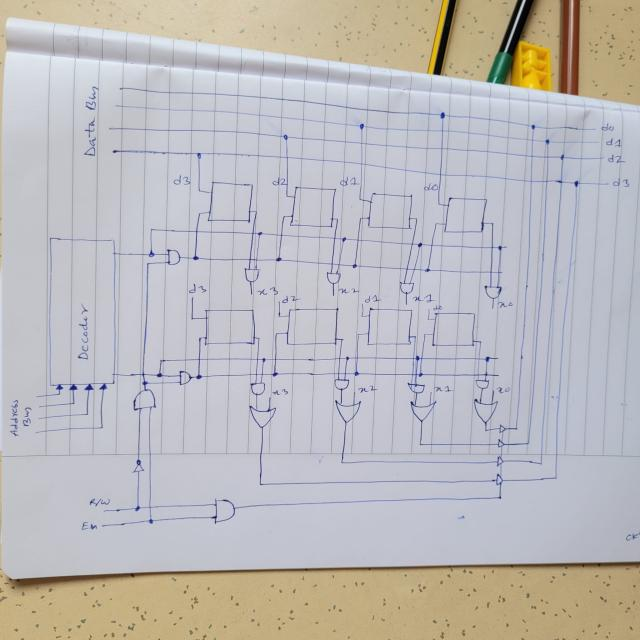crossover: (556, 179, 564, 184), (545, 154, 551, 160), (544, 178, 550, 184), (528, 178, 534, 184), (196, 356, 202, 362), (359, 140, 364, 146), (529, 153, 534, 159), (359, 161, 364, 166), (439, 146, 444, 151), (440, 128, 445, 133), (438, 172, 443, 177), (194, 229, 199, 234), (279, 233, 284, 238), (284, 155, 290, 159), (530, 137, 534, 143), (272, 357, 278, 361), (343, 372, 348, 376), (336, 371, 341, 375), (260, 372, 265, 376), (355, 356, 360, 360), (484, 372, 488, 377), (477, 356, 481, 361), (333, 236, 337, 241), (356, 237, 360, 242), (489, 269, 493, 274), (490, 245, 494, 250), (256, 357, 260, 361), (254, 372, 258, 376), (476, 372, 480, 376), (251, 232, 255, 236), (410, 242, 414, 246), (430, 243, 434, 247), (248, 257, 252, 261), (255, 258, 259, 262), (337, 357, 342, 360), (411, 372, 413, 377), (415, 372, 417, 377), (420, 357, 423, 360), (412, 357, 414, 360)
junction: (280, 132, 290, 142), (194, 150, 204, 159), (357, 121, 366, 131), (146, 516, 155, 525), (133, 504, 142, 512), (558, 152, 566, 161), (483, 354, 492, 362), (256, 479, 264, 488), (439, 110, 446, 120), (192, 254, 200, 262), (147, 250, 155, 258), (271, 370, 279, 378), (524, 439, 532, 447), (275, 255, 282, 263), (195, 372, 202, 380), (351, 262, 358, 270), (352, 370, 360, 377), (340, 235, 347, 243), (156, 371, 163, 378), (158, 357, 165, 364), (195, 187, 202, 194), (544, 138, 551, 145), (573, 179, 579, 187), (140, 380, 148, 386), (496, 494, 503, 500), (196, 210, 202, 217), (418, 440, 423, 448), (424, 266, 430, 272), (148, 226, 154, 232), (196, 336, 202, 342), (140, 371, 146, 377), (417, 242, 423, 248), (276, 312, 282, 318), (530, 124, 536, 130), (189, 316, 195, 321), (257, 231, 263, 236), (261, 357, 266, 363), (497, 245, 502, 251), (538, 461, 543, 466), (418, 372, 423, 377), (284, 193, 289, 198), (415, 355, 419, 361), (339, 460, 344, 464), (359, 314, 364, 318), (274, 331, 278, 336), (144, 261, 149, 265), (426, 317, 430, 321), (490, 222, 494, 226), (358, 197, 362, 201), (514, 426, 518, 430), (554, 476, 558, 480), (345, 356, 349, 360), (340, 338, 344, 342), (257, 336, 261, 340), (434, 222, 438, 226), (414, 217, 418, 221), (359, 216, 363, 220), (335, 217, 339, 221), (57, 392, 61, 396), (86, 412, 90, 416), (100, 425, 104, 429), (478, 341, 482, 344), (356, 333, 360, 336), (413, 335, 417, 338), (437, 202, 440, 206), (72, 401, 76, 404), (423, 333, 426, 336)
terminal: (110, 147, 118, 155), (117, 85, 123, 92), (36, 403, 42, 410), (488, 304, 494, 310), (248, 290, 254, 296), (100, 522, 106, 528), (503, 243, 508, 250), (107, 126, 112, 132), (34, 394, 40, 399), (34, 429, 40, 434), (359, 302, 366, 306), (113, 103, 118, 108), (600, 155, 605, 160), (404, 300, 409, 305), (276, 299, 281, 304), (101, 508, 106, 513), (595, 140, 601, 144), (498, 271, 504, 275), (36, 414, 40, 420), (496, 372, 500, 377), (331, 292, 336, 296), (189, 296, 194, 300), (267, 394, 272, 398), (352, 390, 356, 395), (491, 389, 496, 393), (606, 182, 610, 186), (593, 127, 597, 131), (282, 214, 286, 218), (495, 356, 498, 361), (253, 210, 257, 213), (429, 391, 433, 394), (428, 307, 430, 311)
text: (82, 84, 100, 159), (75, 303, 90, 364), (8, 399, 20, 438), (21, 404, 32, 428), (88, 496, 111, 507), (172, 173, 190, 186), (606, 153, 626, 164), (257, 286, 279, 296), (189, 282, 207, 294), (605, 136, 623, 148), (358, 384, 378, 394), (338, 176, 358, 186), (611, 177, 630, 187), (414, 293, 433, 303), (338, 286, 359, 295), (495, 300, 514, 309), (424, 181, 438, 192), (272, 176, 286, 187), (80, 521, 97, 530), (433, 385, 454, 392), (495, 385, 511, 394), (363, 294, 379, 303), (280, 295, 296, 304), (601, 122, 615, 132), (272, 388, 288, 395), (431, 304, 442, 314)
